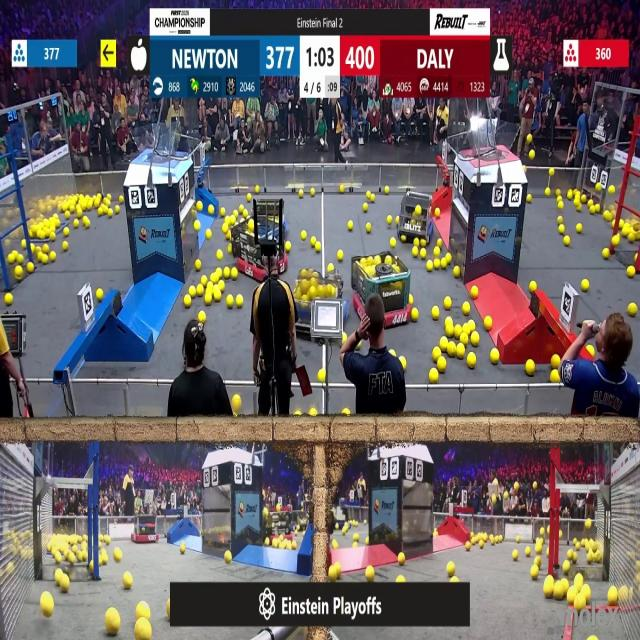ball_airborne: (529, 150, 535, 158), (527, 135, 532, 144), (492, 495, 497, 504), (515, 483, 520, 491), (535, 482, 540, 490), (503, 492, 507, 499)
ball_ground: (106, 611, 120, 637), (41, 594, 53, 616), (542, 580, 552, 600), (137, 603, 149, 618), (607, 589, 617, 607), (554, 584, 564, 600), (574, 596, 585, 610), (328, 565, 338, 580), (233, 395, 242, 411), (122, 572, 131, 588), (61, 578, 70, 594), (438, 358, 448, 372), (466, 353, 475, 368), (584, 586, 592, 602), (491, 349, 499, 364), (567, 588, 575, 603), (429, 370, 438, 383), (552, 355, 561, 368), (526, 360, 534, 374), (448, 562, 456, 576), (470, 333, 478, 347), (365, 566, 373, 580), (629, 304, 637, 318), (412, 309, 420, 322), (236, 294, 244, 307), (457, 345, 465, 358), (485, 317, 492, 331), (552, 371, 560, 383), (431, 308, 439, 320), (213, 290, 221, 302), (197, 284, 205, 296), (448, 343, 456, 355), (574, 573, 582, 585), (562, 578, 570, 590), (226, 294, 233, 307), (318, 370, 325, 383), (531, 566, 538, 579), (97, 288, 104, 301), (445, 296, 452, 309), (466, 320, 474, 331), (454, 324, 462, 335), (224, 552, 231, 564), (462, 304, 469, 316), (397, 554, 404, 566), (628, 267, 635, 279), (114, 550, 121, 562), (563, 561, 570, 573), (447, 324, 454, 336), (205, 292, 212, 304), (432, 348, 439, 360), (14, 267, 21, 279), (588, 346, 595, 358), (56, 571, 63, 583), (210, 274, 218, 284), (68, 554, 76, 564), (594, 204, 602, 214), (442, 338, 448, 351), (199, 312, 206, 323), (583, 280, 590, 291), (5, 293, 12, 304), (28, 264, 35, 275), (611, 236, 618, 247), (470, 286, 476, 298), (223, 268, 229, 280), (90, 560, 96, 572), (628, 234, 635, 244), (56, 554, 63, 564), (101, 555, 108, 565), (81, 552, 88, 562), (460, 334, 467, 344), (603, 248, 609, 259), (530, 281, 536, 292), (184, 295, 190, 306), (232, 269, 238, 280), (338, 250, 344, 261), (454, 268, 460, 279), (189, 285, 195, 296), (574, 201, 580, 212), (286, 242, 292, 253), (7, 254, 14, 263), (342, 335, 349, 344), (564, 237, 570, 247), (218, 280, 224, 290), (194, 262, 200, 272), (348, 220, 354, 230), (427, 262, 433, 272), (63, 242, 69, 252), (193, 220, 199, 230), (413, 247, 419, 257), (316, 242, 322, 252), (216, 250, 222, 260), (434, 208, 440, 218), (82, 217, 88, 227), (400, 356, 405, 368), (365, 222, 371, 232), (216, 269, 222, 279), (16, 254, 22, 264), (442, 260, 448, 270), (195, 202, 201, 212), (76, 208, 82, 218), (604, 211, 610, 221), (104, 198, 110, 208), (207, 280, 213, 290), (310, 410, 317, 418), (396, 575, 404, 582), (446, 254, 453, 262), (344, 410, 351, 418), (524, 550, 531, 558), (575, 223, 581, 232), (390, 239, 396, 248), (558, 224, 564, 233), (64, 229, 70, 238), (49, 252, 55, 261), (42, 254, 48, 263), (299, 232, 305, 241), (114, 206, 120, 215), (206, 231, 212, 240), (49, 232, 55, 241), (42, 244, 48, 253), (547, 168, 553, 177), (536, 543, 542, 552), (202, 276, 208, 285), (589, 200, 595, 209), (231, 216, 237, 225), (580, 196, 586, 205), (421, 248, 426, 258), (434, 261, 439, 271), (451, 575, 458, 582), (98, 208, 105, 215), (364, 191, 371, 198), (327, 265, 333, 273), (384, 186, 390, 194), (363, 537, 369, 545), (567, 190, 573, 198), (331, 540, 337, 548), (435, 240, 441, 248), (340, 185, 346, 193), (434, 248, 439, 257), (514, 552, 519, 561), (527, 193, 532, 202), (180, 543, 185, 552), (209, 206, 214, 215), (74, 219, 79, 228), (415, 239, 420, 248), (222, 223, 227, 232), (558, 216, 564, 223), (234, 210, 240, 217), (363, 204, 368, 212), (108, 209, 113, 217), (220, 208, 225, 216), (559, 202, 564, 210), (410, 294, 414, 304), (247, 192, 252, 200), (266, 538, 271, 546), (20, 238, 25, 246), (557, 188, 562, 196), (620, 219, 625, 227), (225, 232, 230, 240), (470, 536, 475, 544), (81, 542, 86, 550), (370, 192, 374, 201), (568, 552, 572, 561), (106, 193, 112, 199), (517, 535, 522, 542), (311, 237, 316, 244), (118, 195, 123, 202), (311, 188, 316, 195), (466, 541, 470, 549), (227, 245, 231, 253), (354, 533, 358, 541), (255, 185, 259, 193), (244, 210, 248, 218), (66, 211, 70, 219), (395, 216, 399, 224), (540, 528, 544, 536), (481, 539, 485, 547), (391, 350, 396, 356), (294, 412, 299, 418), (363, 520, 368, 526), (388, 216, 392, 223), (544, 188, 548, 195), (298, 190, 302, 197), (400, 237, 404, 244), (106, 536, 110, 543), (353, 541, 357, 547), (634, 254, 638, 260), (344, 530, 347, 538), (433, 531, 437, 537)
goal: (465, 122, 521, 160), (130, 128, 188, 161)
robot_blue: (290, 268, 345, 340), (398, 192, 434, 244)
robot_red: (232, 200, 290, 278), (350, 254, 409, 328), (264, 507, 295, 541), (132, 516, 159, 543)
